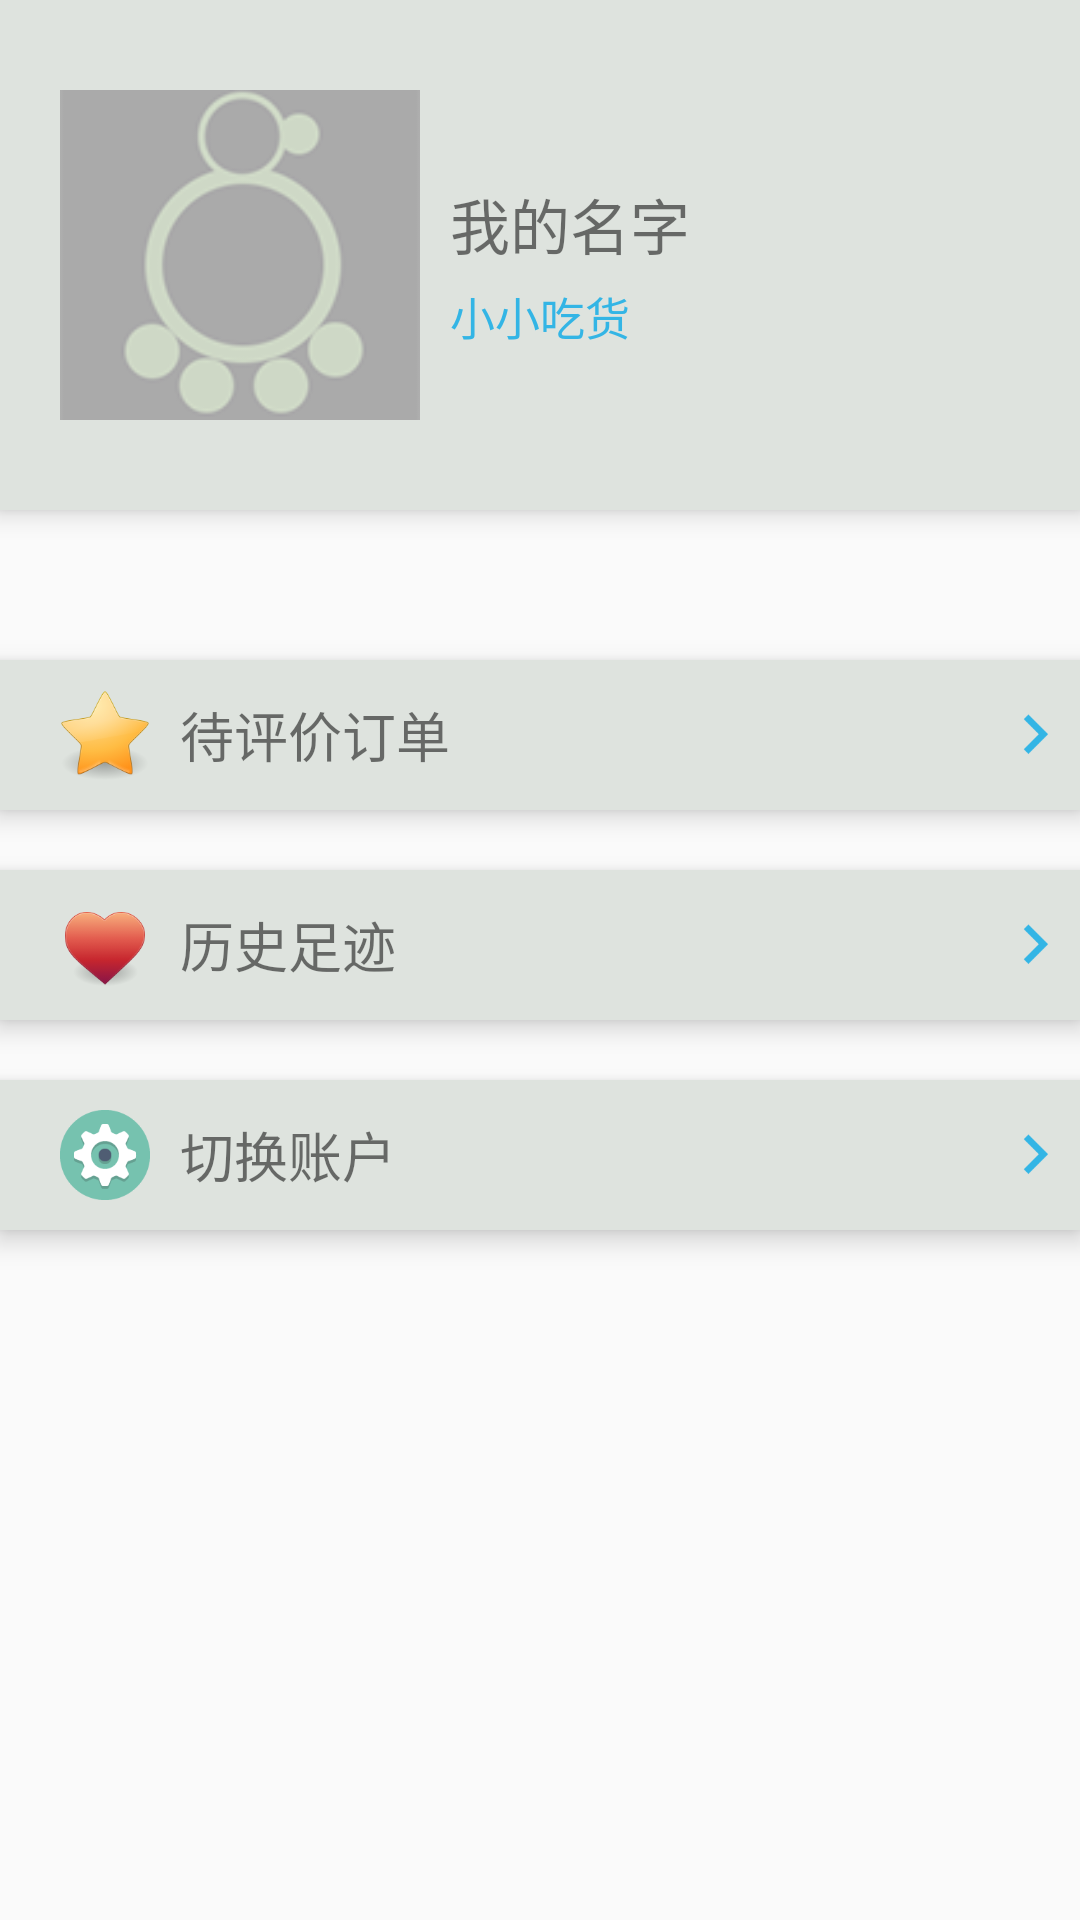

Named icons in this screenshot (1080px x 1920px) and their centers, (x=x, y=y):
open: (x=1036, y=734), (x=1036, y=944), (x=1036, y=1154)
